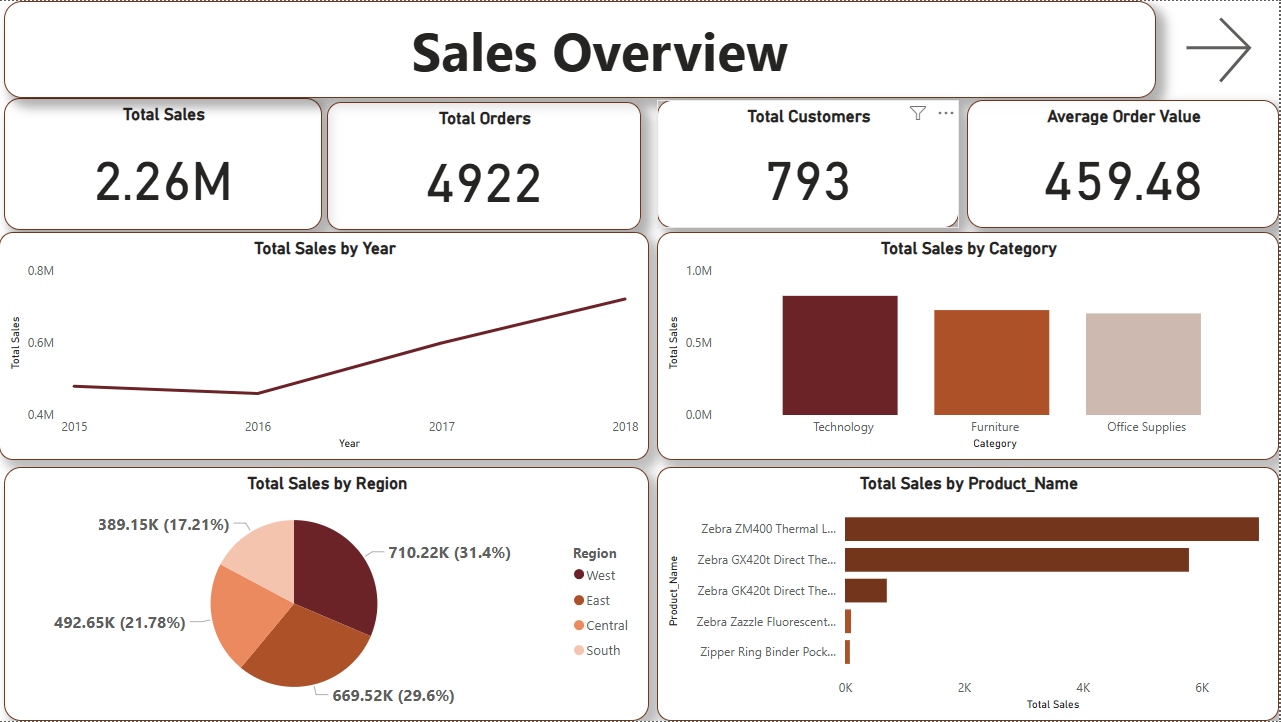

Layout of this report page (visuals, bound fields, positions):
{"tool":"powerbi","page":{"name":"Page 1","canvas":[1280,720],"ordinal":0},"visuals":[{"type":"card","title":"Total Sales","fields":{"Values":["DateTable.Total Sales"]},"box":[4.9,97.3,318.1,131.3],"z":0},{"type":"textbox","box":[4.8,0,1152.4,96.9],"z":1000},{"type":"card","title":"Total Customers","fields":{"Values":["DateTable.Total Customers"]},"box":[657.5,99.2,302.5,127.4],"z":2000},{"type":"card","title":"Total Orders ","fields":{"Values":["DateTable.Total Orders"]},"box":[327.8,101.2,314.2,127.4],"z":3000},{"type":"card","title":"Average Order Value","fields":{"Values":["DateTable.Average Order Value"]},"box":[967.8,99.2,312.2,127.4],"z":4000},{"type":"lineChart","fields":{"Category":["DateTable.Date.Variation.Date Hierarchy.Year","DateTable.Date.Variation.Date Hierarchy.Quarter","DateTable.Date.Variation.Date Hierarchy.Month","DateTable.Date.Variation.Date Hierarchy.Day"],"Y":["DateTable.Total Sales"]},"box":[0,231.5,649.7,227.6],"z":5000},{"type":"columnChart","fields":{"Y":["DateTable.Total Sales"],"Category":["Sales.Category"]},"box":[657.5,230.5,622.5,228.6],"z":6000},{"type":"pieChart","fields":{"Y":["DateTable.Total Sales"],"Category":["Sales.Region"]},"box":[4.9,465.9,644.9,253.9],"z":7000},{"type":"clusteredBarChart","fields":{"Category":["Sales.Product_Name"],"Y":["DateTable.Total Sales"]},"box":[657.5,465.9,622.5,253.9],"z":8000},{"type":"actionButton","box":[1179.3,8.6,100.7,80.6],"z":9000}]}

Visuals, with their boxes in screenshot pixels (x1, y1, x2, y2), scaled from the page's 1280x720 canvas onto the 1281x722 screenshot:
"Total Sales" card: 5 98 323 229
textbox: 5 0 1158 97
"Total Customers" card: 658 99 961 227
"Total Orders " card: 328 101 643 229
"Average Order Value" card: 969 99 1280 227
lineChart - DateTable.Date.Variation.Date Hierarchy.Year x DateTable.Date.Variation.Date Hierarchy.Quarter: 0 232 650 460
columnChart - DateTable.Total Sales x Sales.Category: 658 231 1280 460
pieChart - DateTable.Total Sales x Sales.Region: 5 467 650 721
clusteredBarChart - Sales.Product_Name x DateTable.Total Sales: 658 467 1280 721
actionButton: 1180 9 1280 89
